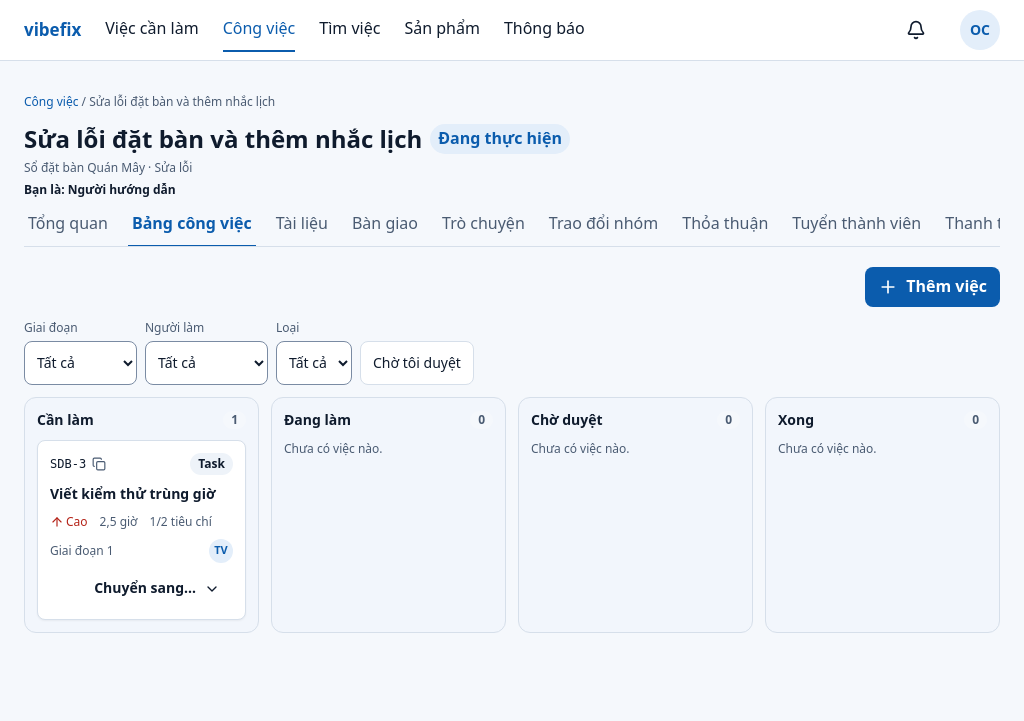
it: Work Items on JOB-2 (FR-23, AD-23, AD-39, UX-DR36) › opens the Stale dialog when someone saved first
Click the button "Viết kiểm thử trùng giờ" at x=142, y=494, box x1=50 y1=483 x2=233 y2=505
(page scrolled)
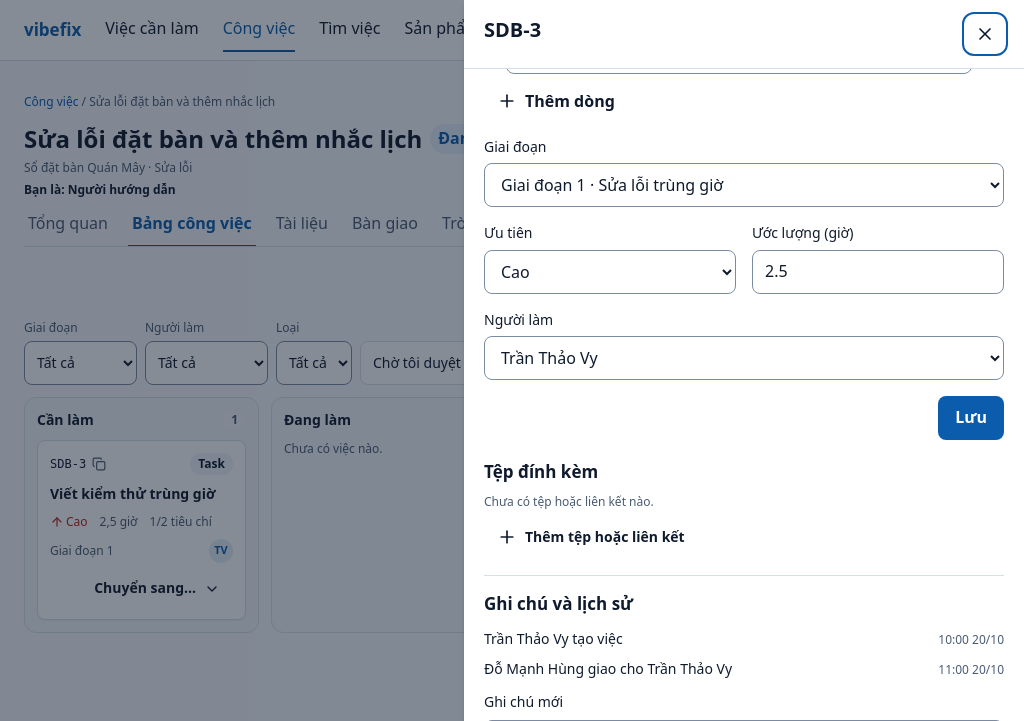
Click the button "Lưu" at x=971, y=418, box x1=938 y1=396 x2=1004 y2=440
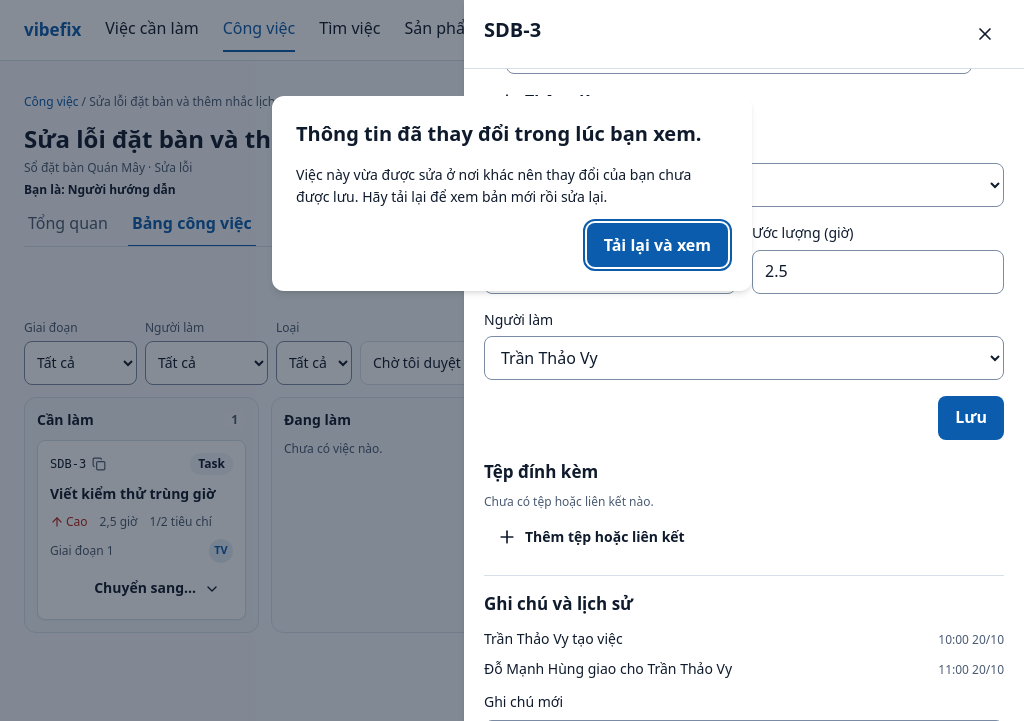
Check: the text "thay đổi của bạn chưa được lưu" is shown, box x1=296 y1=165 x2=691 y2=206
